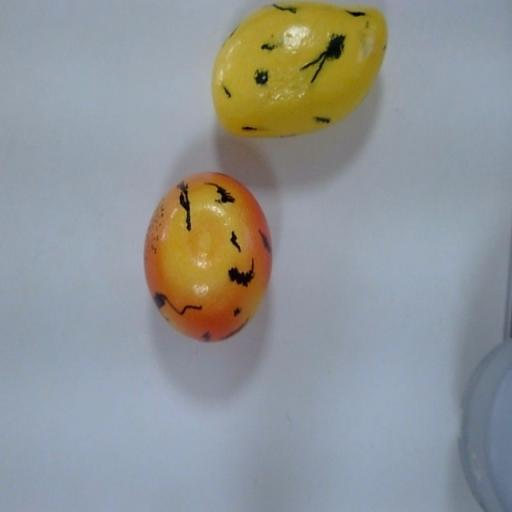Defective: (209, 2, 412, 150), (139, 168, 280, 342)
